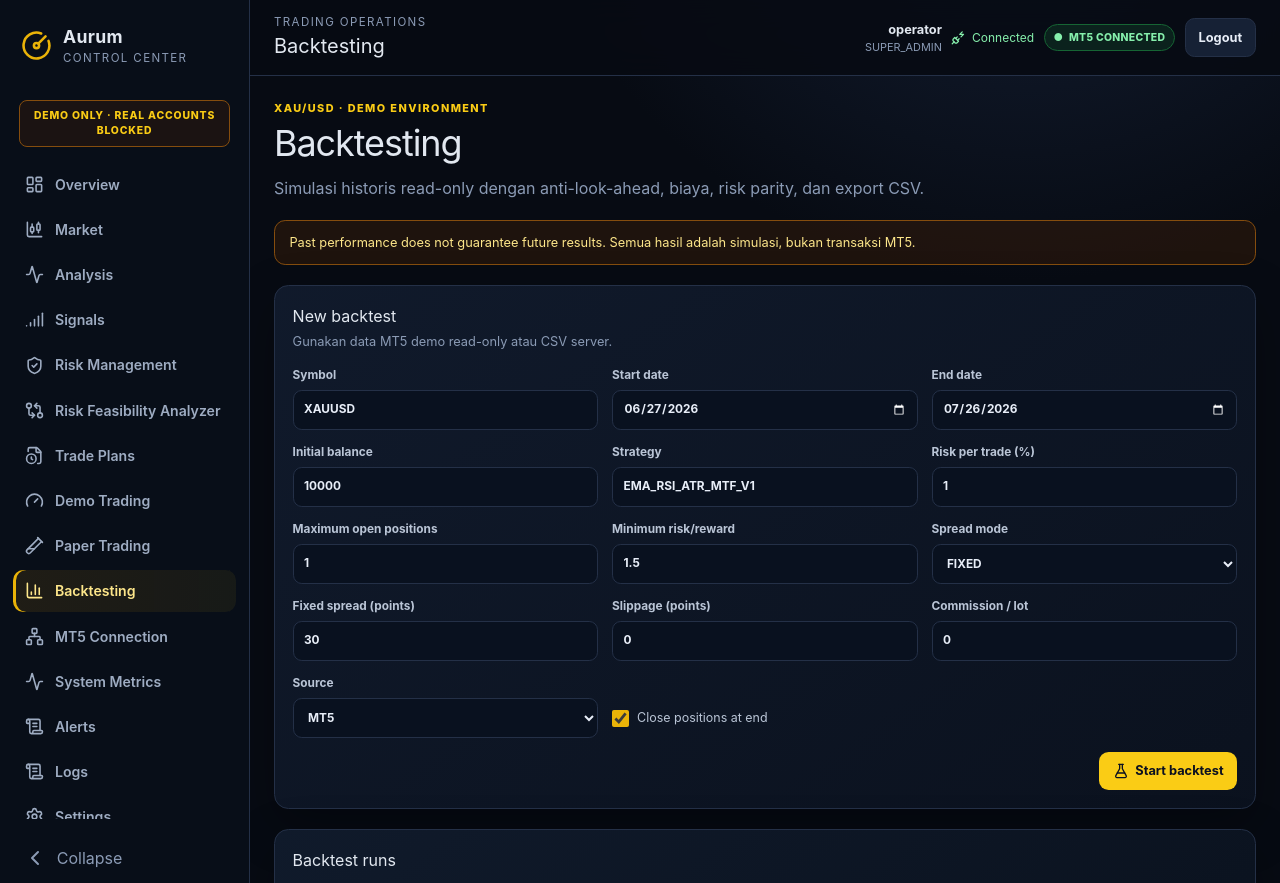
backtest workflow › validates date range before starting a backtest
Type "2026-07-20" into the date field labelled "Start date" at x=765, y=410, box left=612, top=390, right=918, bottom=430
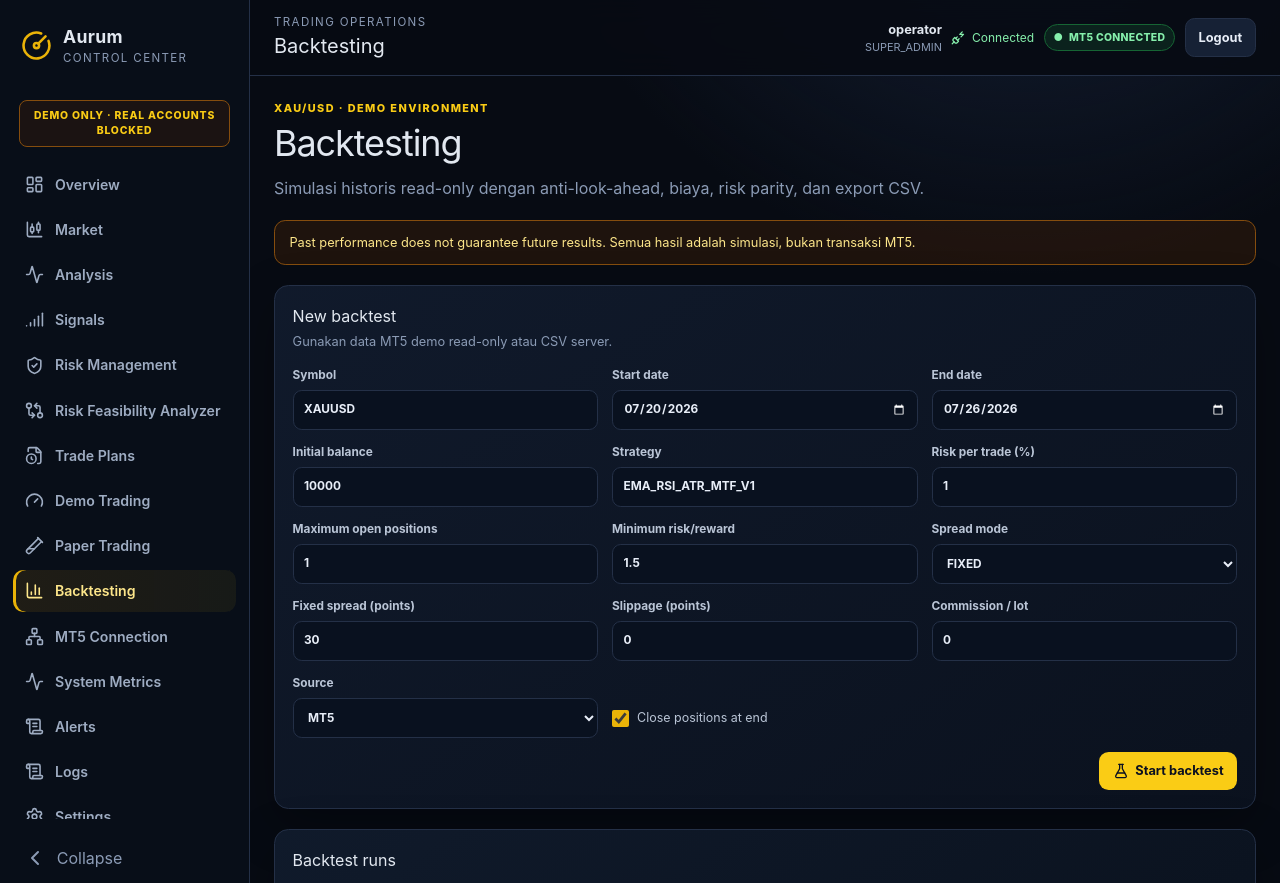
Type "2026-07-19" into the date field labelled "End date" at x=1084, y=410, box left=932, top=390, right=1237, bottom=430
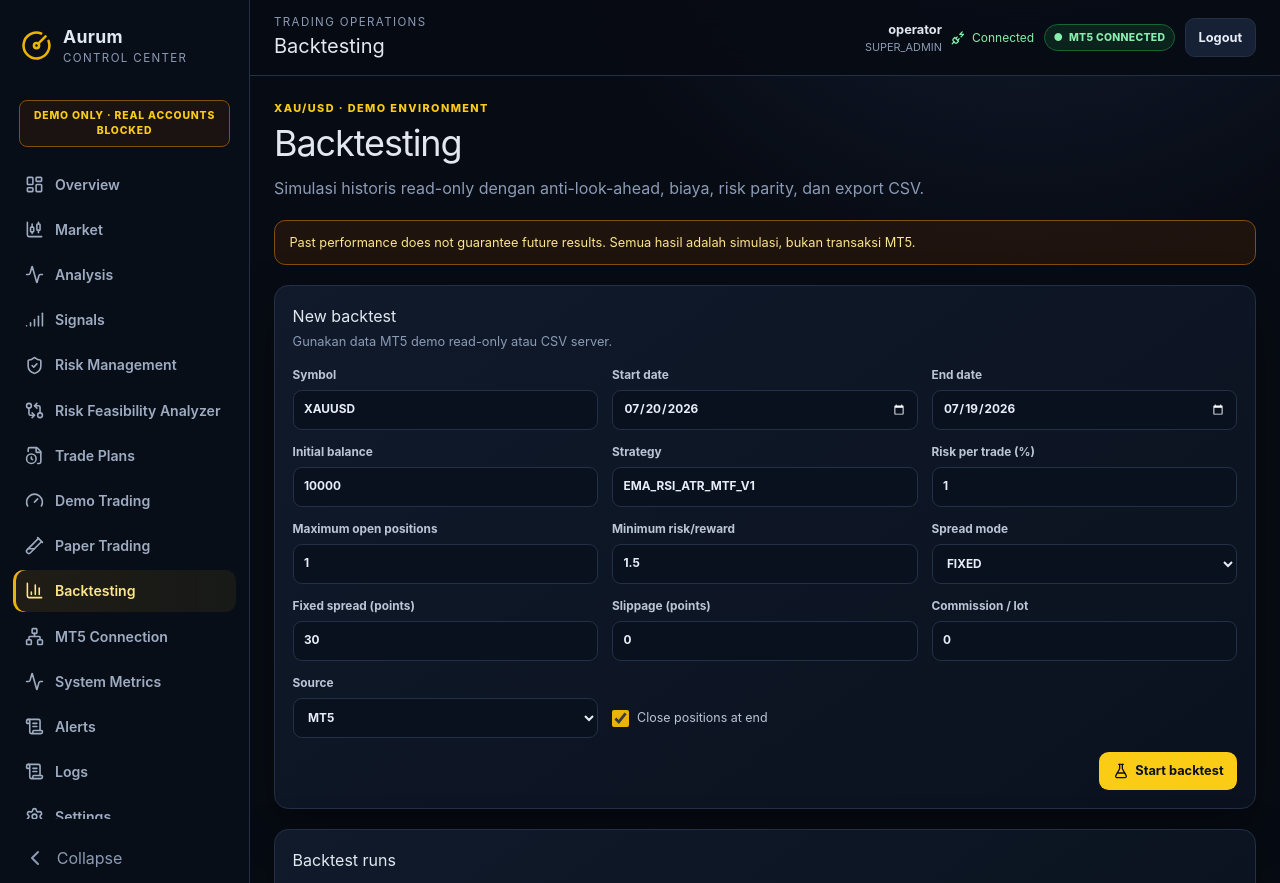
Click the button "Start backtest" at x=1168, y=771, box left=1099, top=752, right=1237, bottom=790
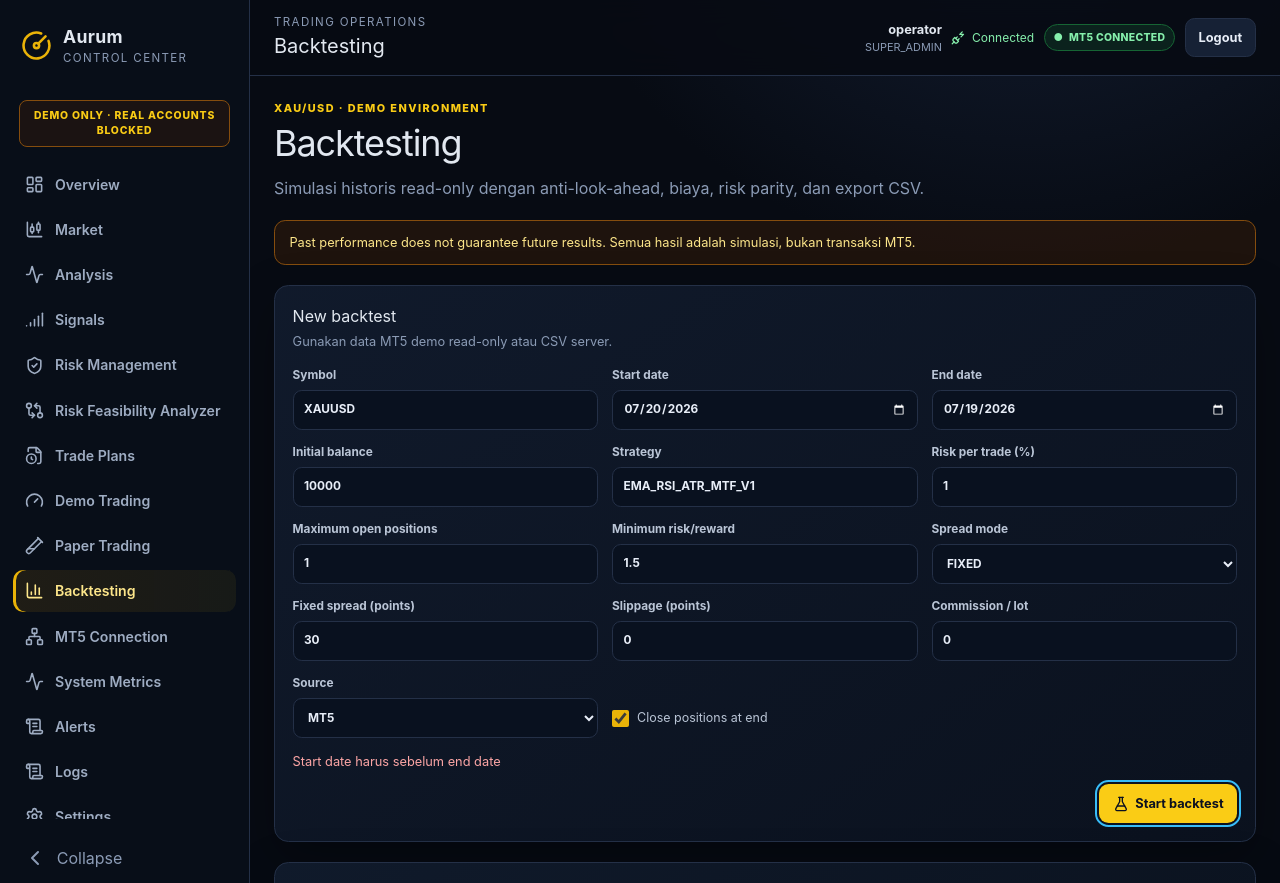
Now the message reads "Start date harus sebelum end date", box left=293, top=754, right=501, bottom=769
